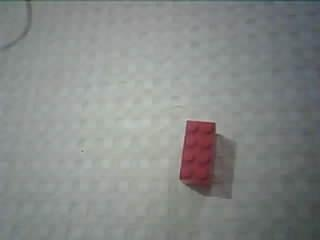lego: (179, 119, 216, 188)
